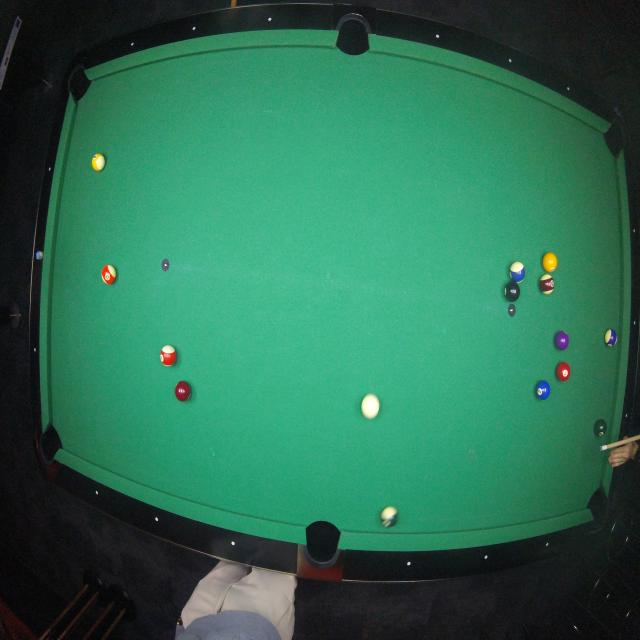cue ball: (361, 392, 381, 424)
other: (380, 501, 399, 531), (176, 377, 195, 406), (100, 262, 120, 288), (160, 344, 177, 371), (90, 150, 107, 176), (534, 378, 552, 402), (504, 281, 522, 303), (509, 260, 526, 283), (539, 275, 555, 297), (543, 251, 559, 272), (557, 361, 572, 383), (594, 418, 608, 439), (604, 327, 617, 349), (556, 331, 570, 351)
